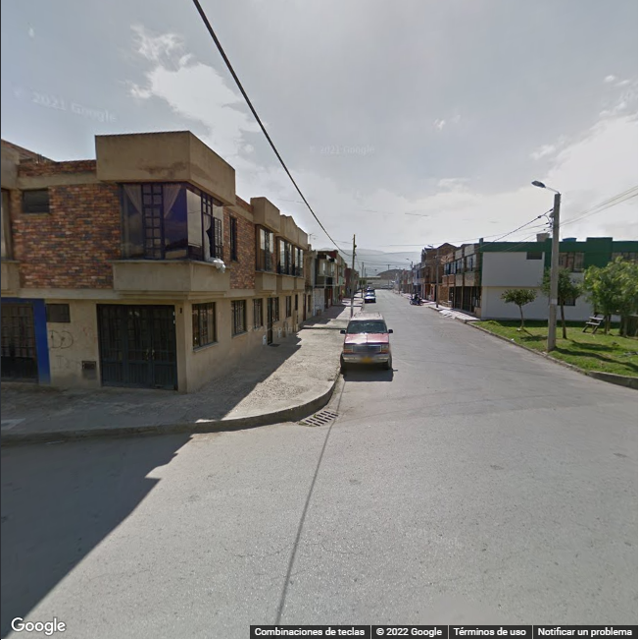D10: (228, 544, 321, 561), (407, 578, 483, 589), (257, 570, 326, 581)
